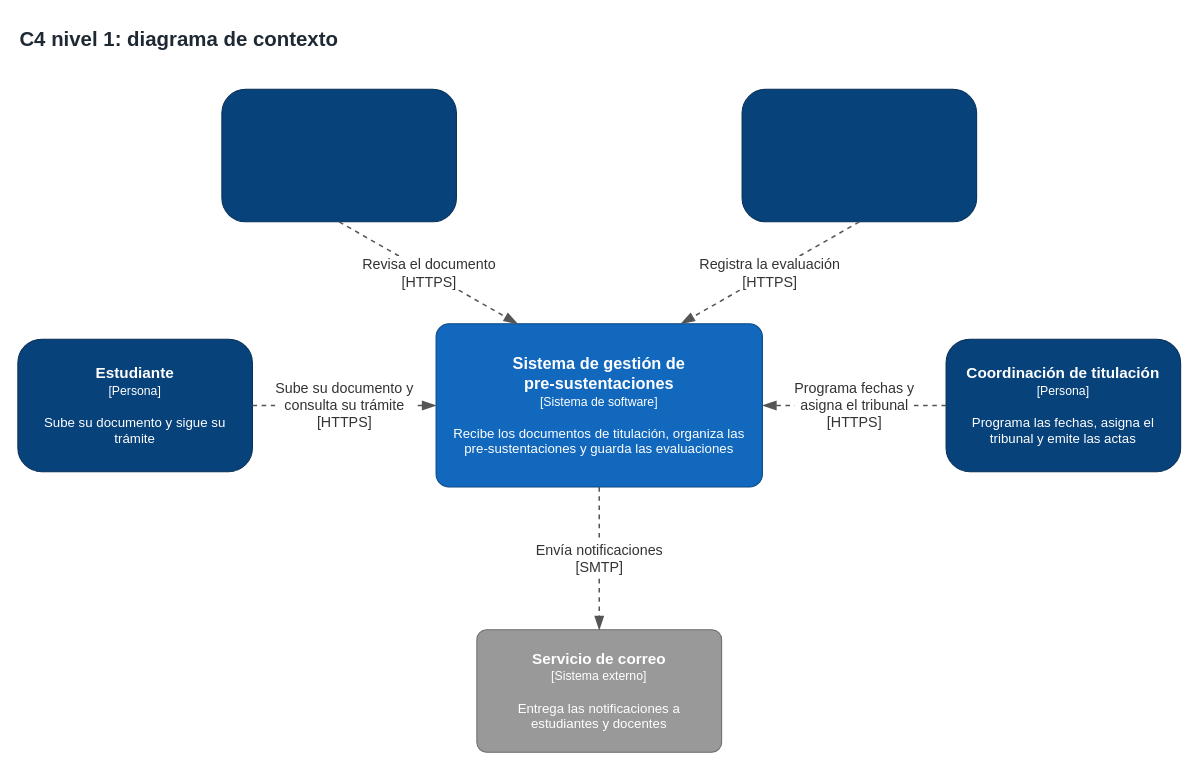
Some shapes in this 1199 by 770 pixel diagram are drawn without their labels. Here are the shapes that lost their labels. From the top down, the box of each, then its label:
(221, 88, 456, 222): Docente tutor [Persona] Acompaña al estudiante y revisa su documento
(741, 88, 977, 222): Docente del tribunal [Persona] Revisa el documento y registra la evaluación
